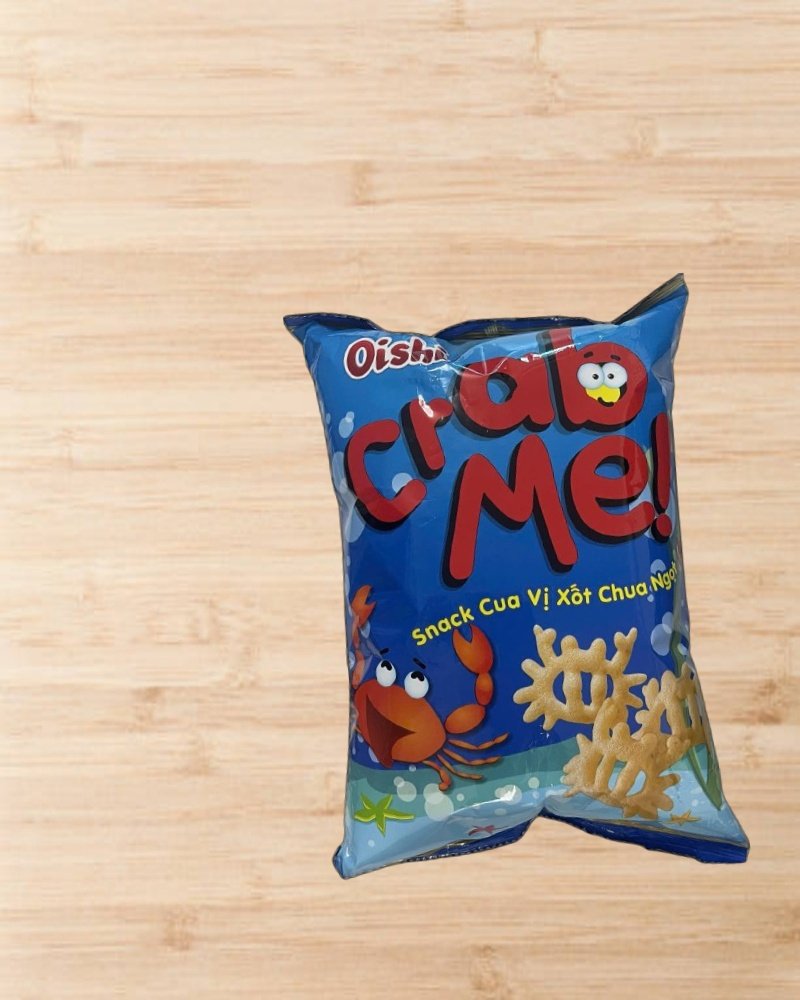Snack cua: (283, 272, 751, 893)
